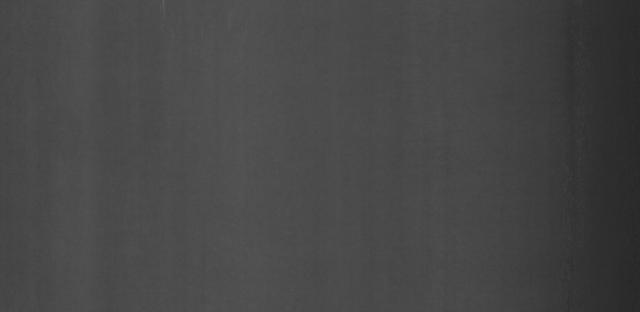silk_spot: (142, 67, 208, 171)
